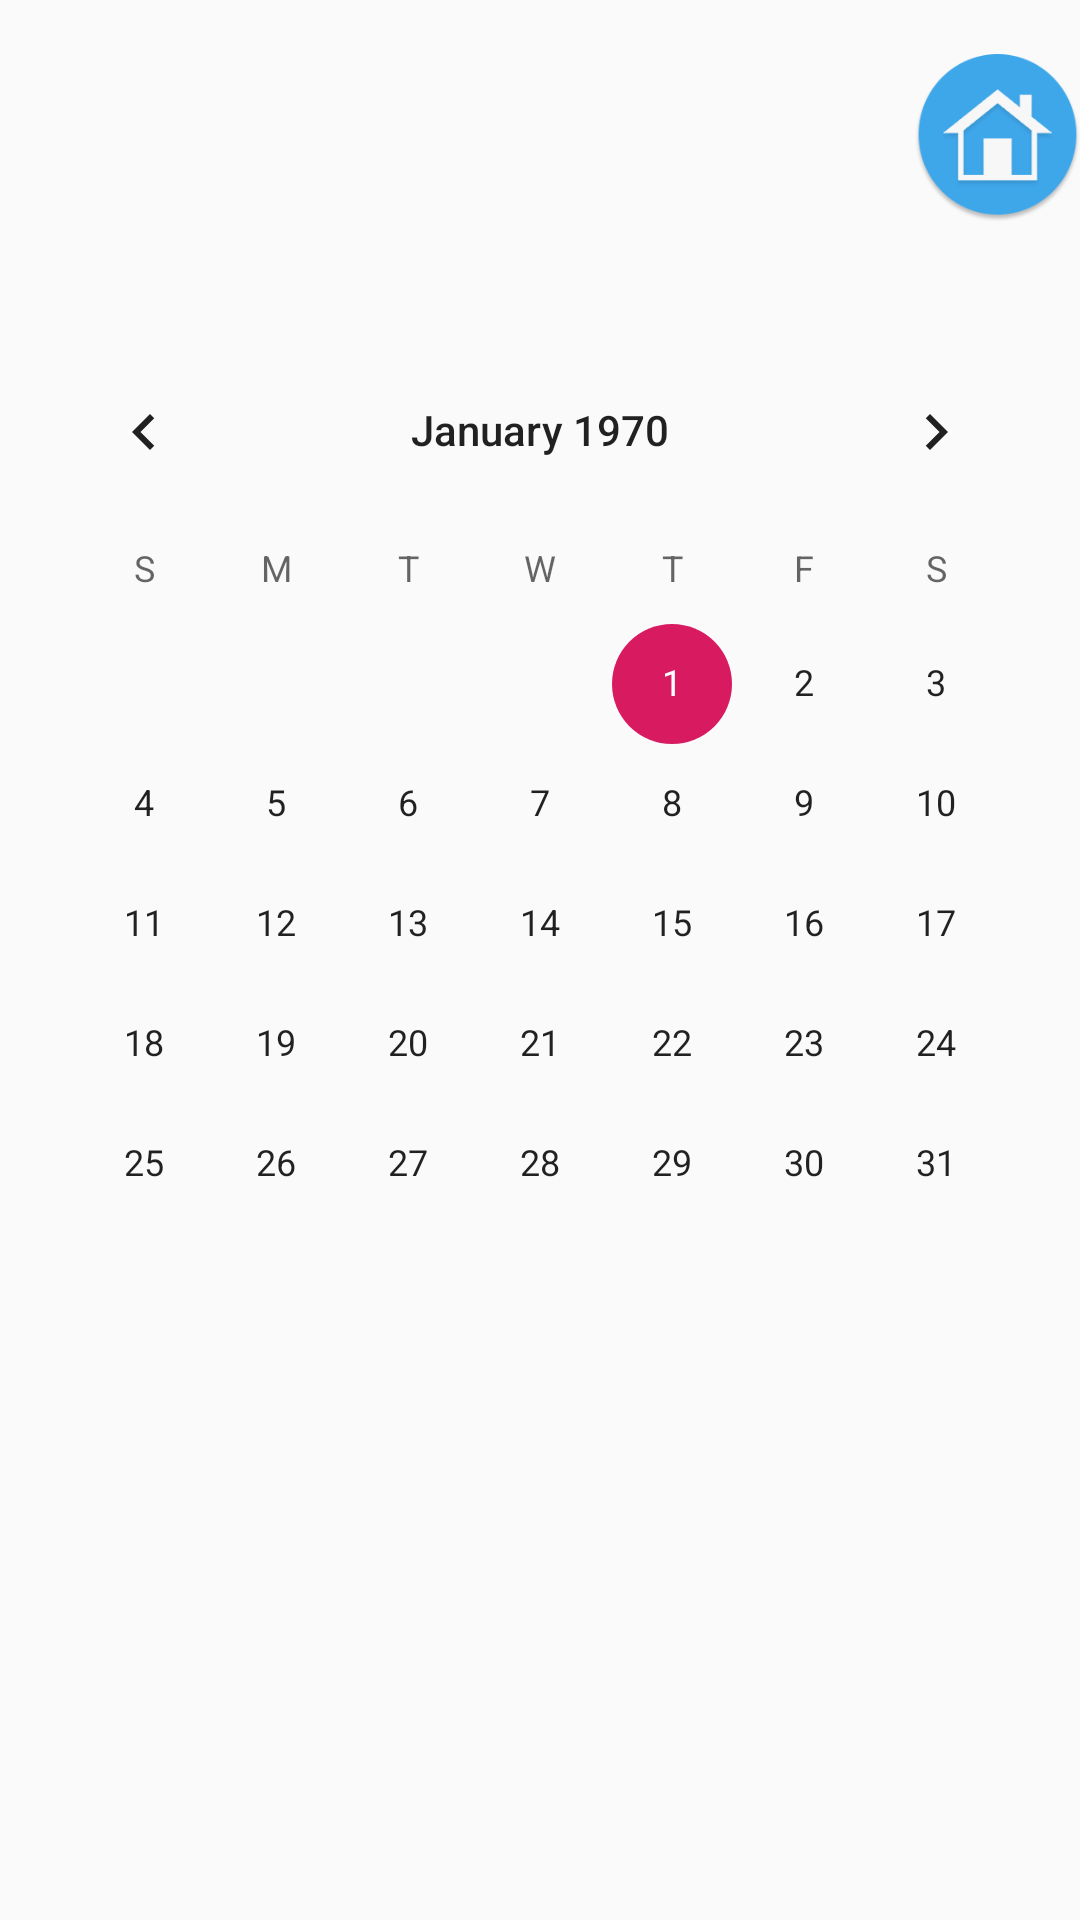

Screen size 1080px x 1920px. Icon name, then its box in pixels as [x1, y1, x2, y2]:
Return to home page: [918, 54, 1077, 219]
